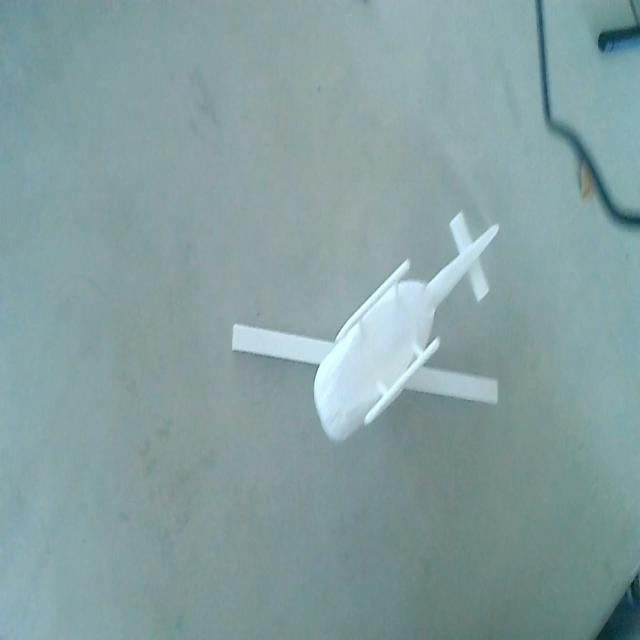Helicopter: (227, 217, 499, 433)
